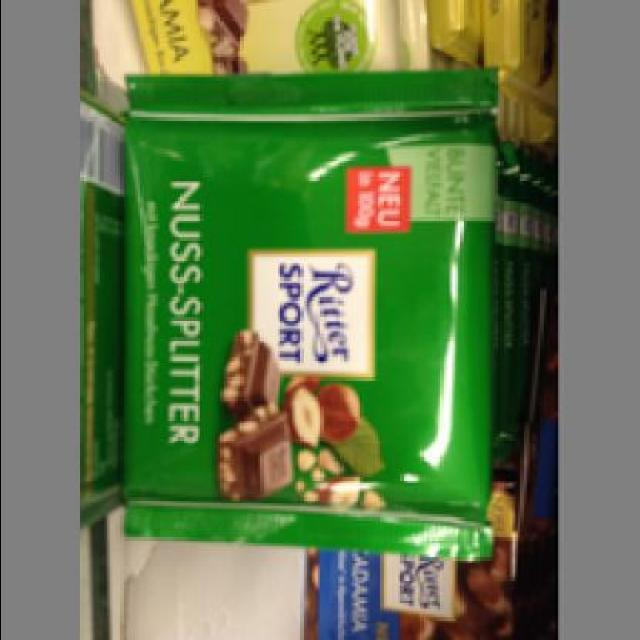Chocolate bar: (120, 63, 503, 554)
